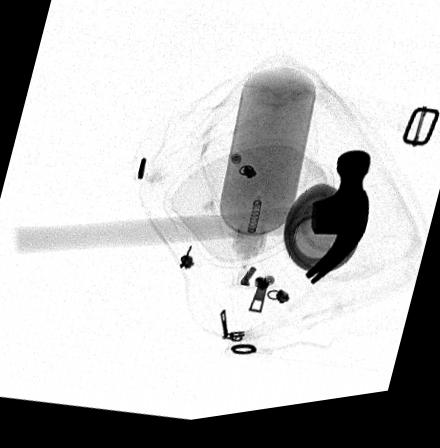Hammer: (15, 160, 371, 296)
